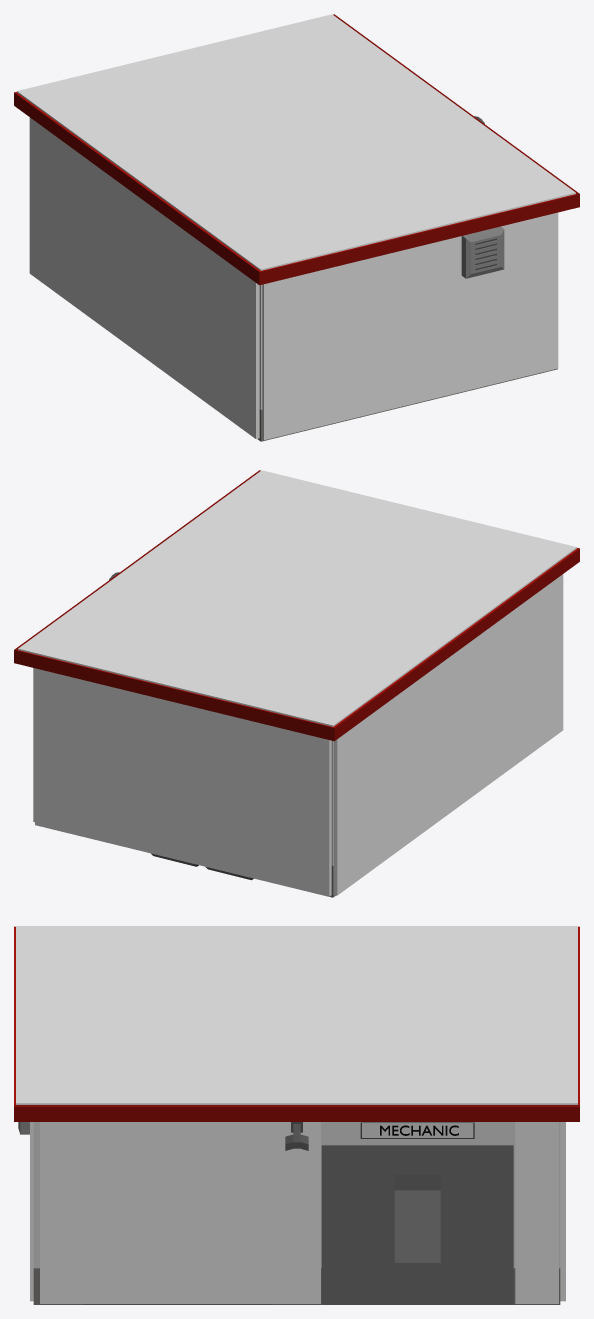
The model's file is newMechanic.glb.
3 views of the same model, one above another, from view 1: azimuth 30°, elevation 25°; view 2: azimuth 150°, elevation 25°; view 3: azimuth 270°, elevation 25° (orthographic). The views are drawn at different scales.
Visible parts, largest first — view 1: WallCol.005, WallCol.003, WallCol.001, Cube, Cube.006; view 2: WallCol.005, WallCol.002, WallCol.001, Cube; view 3: WallCol.005, WallCol, Cube, WallCol.004, Cube.002, WallCol.002, WallCol.003, Cube.005.
Boxes of the visible parts, x1=… form: WallCol.005: x1=17, y1=14, x2=575, y2=270; WallCol.003: x1=262, y1=212, x2=558, y2=439; WallCol.001: x1=29, y1=117, x2=259, y2=439; Cube: x1=14, y1=14, x2=579, y2=441; Cube.006: x1=461, y1=226, x2=504, y2=278; WallCol.005: x1=18, y1=470, x2=576, y2=726; WallCol.002: x1=35, y1=668, x2=331, y2=896; WallCol.001: x1=333, y1=574, x2=563, y2=895; Cube: x1=14, y1=470, x2=579, y2=897; WallCol.005: x1=16, y1=926, x2=577, y2=1104; WallCol: x1=40, y1=1122, x2=320, y2=1303; Cube: x1=14, y1=926, x2=579, y2=1304; WallCol.004: x1=515, y1=1122, x2=558, y2=1303; Cube.002: x1=360, y1=1122, x2=474, y2=1138; WallCol.002: x1=560, y1=1122, x2=565, y2=1301; WallCol.003: x1=30, y1=1122, x2=33, y2=1301; Cube.005: x1=285, y1=1122, x2=308, y2=1150.
Bounding box in the file's own units: 7.99 × 4.1 × 9.9.
